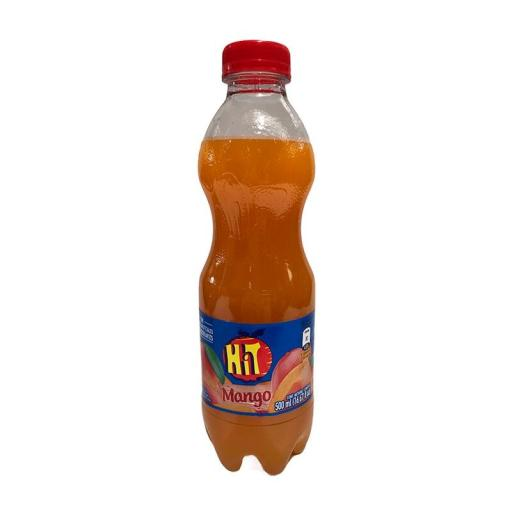JugoHM: (160, 18, 334, 482)
